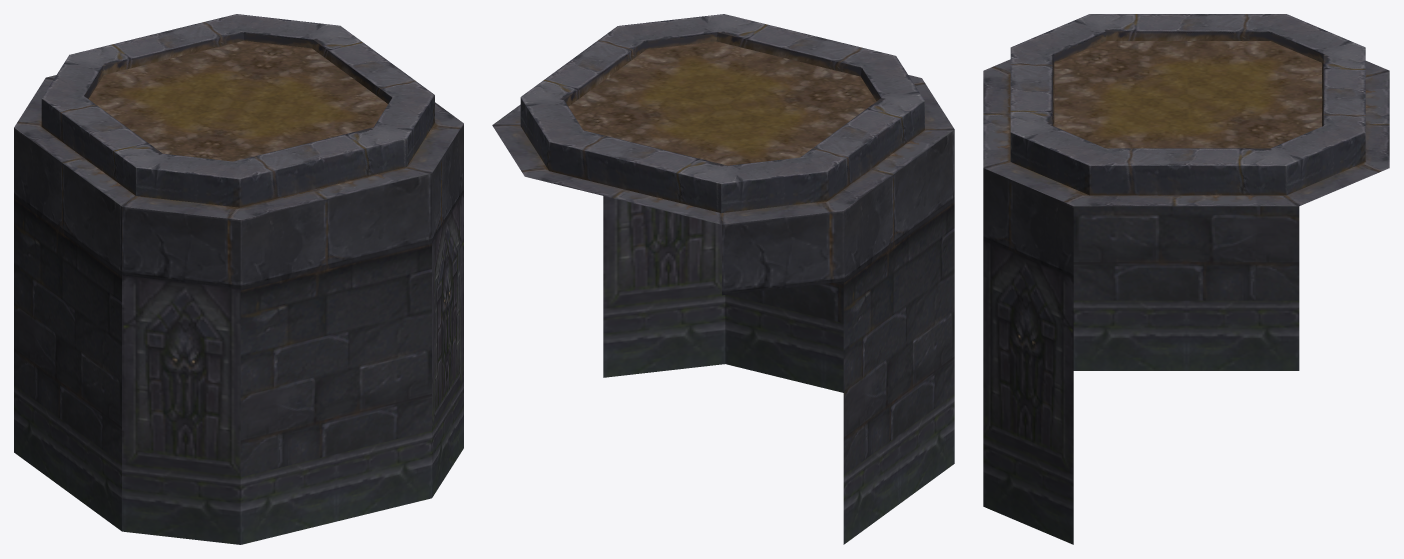
Rendered from building_underground_dunzi03.FBX.
3 renders of one model, left to right at view 1: azimuth 30°, elevation 25°; view 2: azimuth 150°, elevation 25°; view 3: azimuth 270°, elevation 25°, orthographic. The views are drawn at different scales.
Visible parts, largest first — view 1: building_underground_dunzi03; view 2: building_underground_dunzi03; view 3: building_underground_dunzi03.
Part boxes in pixels (box(x1,y1,x2,y2)): building_underground_dunzi03: box(14, 14, 463, 544); building_underground_dunzi03: box(492, 14, 954, 544); building_underground_dunzi03: box(983, 14, 1389, 544).
Bounding box in the file's own units: 12.45 × 12.29 × 12.29.
